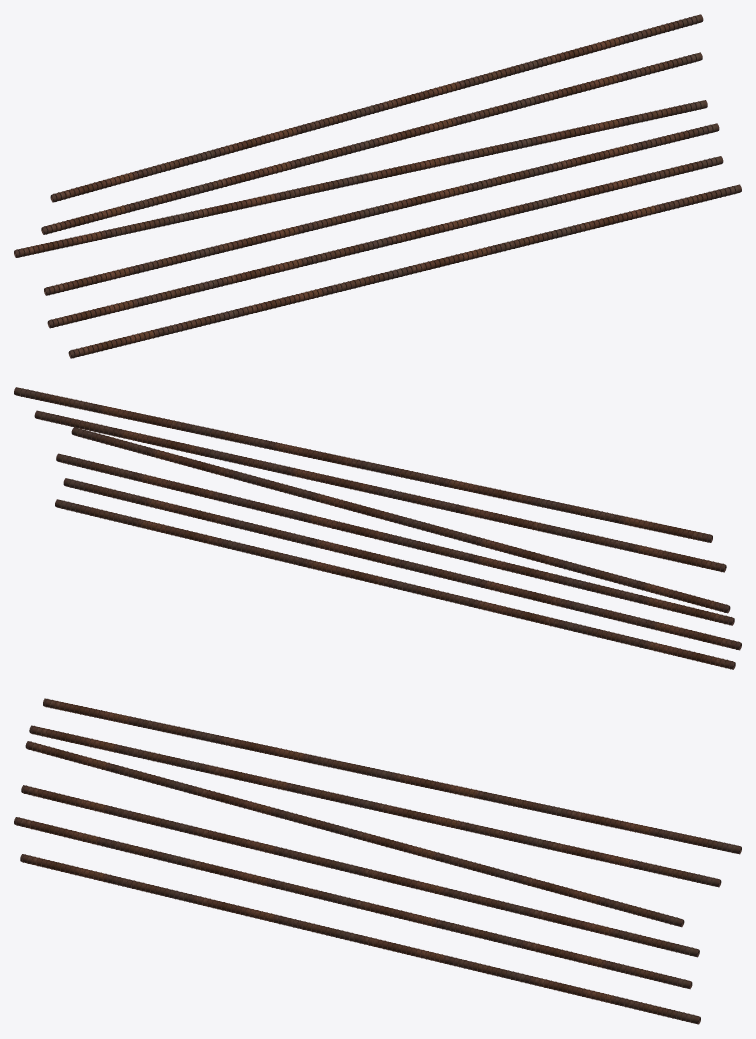
The model's file is EST-ACO-003_anim.glb.
3 renders of one model, top to bottom at view 1: azimuth 30°, elevation 25°; view 2: azimuth 150°, elevation 25°; view 3: azimuth 330°, elevation 25°, orthographic.
Visible parts, largest first — view 1: EST-ACO-003_anim3, EST-ACO-003_anim1, EST-ACO-003_anim2, EST-ACO-003_anim0, EST-ACO-003_anim4, EST-ACO-003_anim5; view 2: EST-ACO-003_anim5, EST-ACO-003_anim4, EST-ACO-003_anim0, EST-ACO-003_anim2, EST-ACO-003_anim1, EST-ACO-003_anim3; view 3: EST-ACO-003_anim5, EST-ACO-003_anim4, EST-ACO-003_anim0, EST-ACO-003_anim1, EST-ACO-003_anim2, EST-ACO-003_anim3.
Boxes of the visible parts, bbox=[...] form: EST-ACO-003_anim3: bbox=[14, 100, 707, 257]; EST-ACO-003_anim1: bbox=[47, 156, 723, 328]; EST-ACO-003_anim2: bbox=[44, 123, 719, 295]; EST-ACO-003_anim0: bbox=[68, 184, 741, 358]; EST-ACO-003_anim4: bbox=[41, 52, 702, 234]; EST-ACO-003_anim5: bbox=[50, 14, 703, 202]; EST-ACO-003_anim5: bbox=[14, 387, 712, 542]; EST-ACO-003_anim4: bbox=[34, 410, 726, 572]; EST-ACO-003_anim0: bbox=[55, 499, 735, 669]; EST-ACO-003_anim2: bbox=[56, 453, 734, 625]; EST-ACO-003_anim1: bbox=[63, 478, 741, 650]; EST-ACO-003_anim3: bbox=[71, 427, 730, 613]; EST-ACO-003_anim5: bbox=[43, 698, 741, 854]; EST-ACO-003_anim4: bbox=[29, 725, 721, 887]; EST-ACO-003_anim0: bbox=[20, 854, 700, 1024]; EST-ACO-003_anim1: bbox=[14, 817, 692, 989]; EST-ACO-003_anim2: bbox=[21, 785, 699, 957]; EST-ACO-003_anim3: bbox=[25, 741, 684, 927].
Bounding box in the file's own units: 1.04 × 0.2112 × 0.1207.
Materials: 1 (1 with a texture image).
